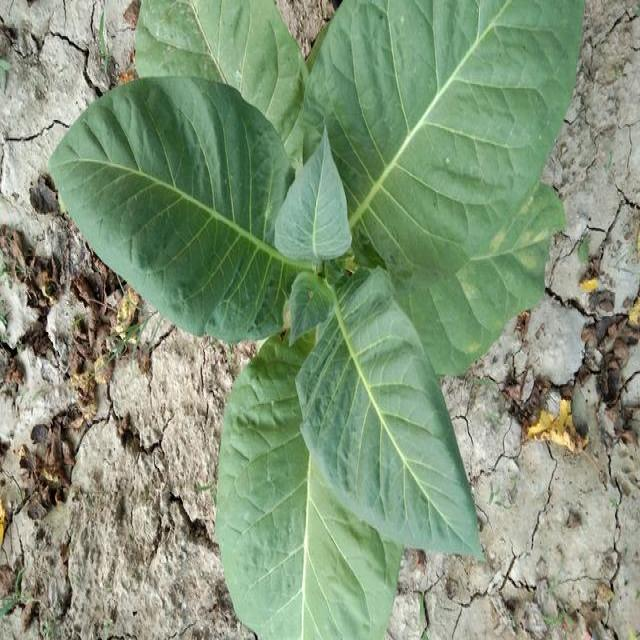crop: (54, 3, 580, 640)
